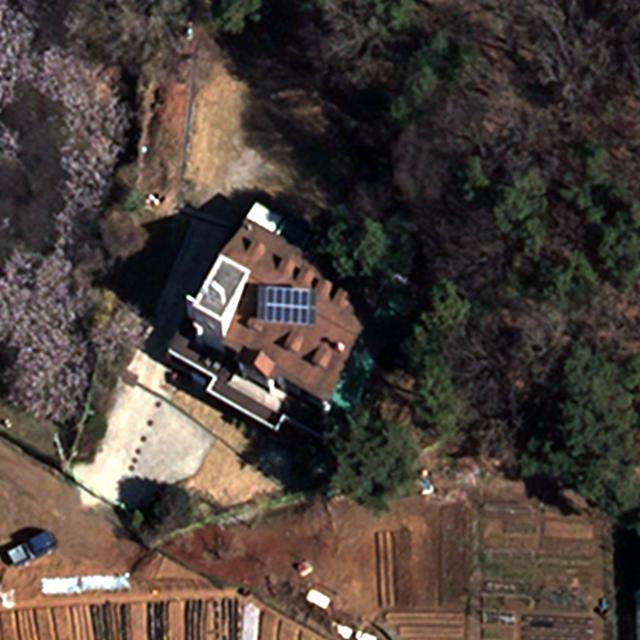panel: (257, 281, 319, 326)
